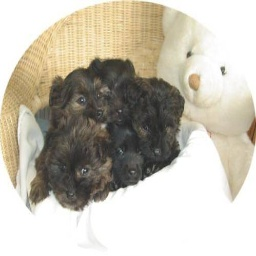dog: (25, 54, 186, 211)
